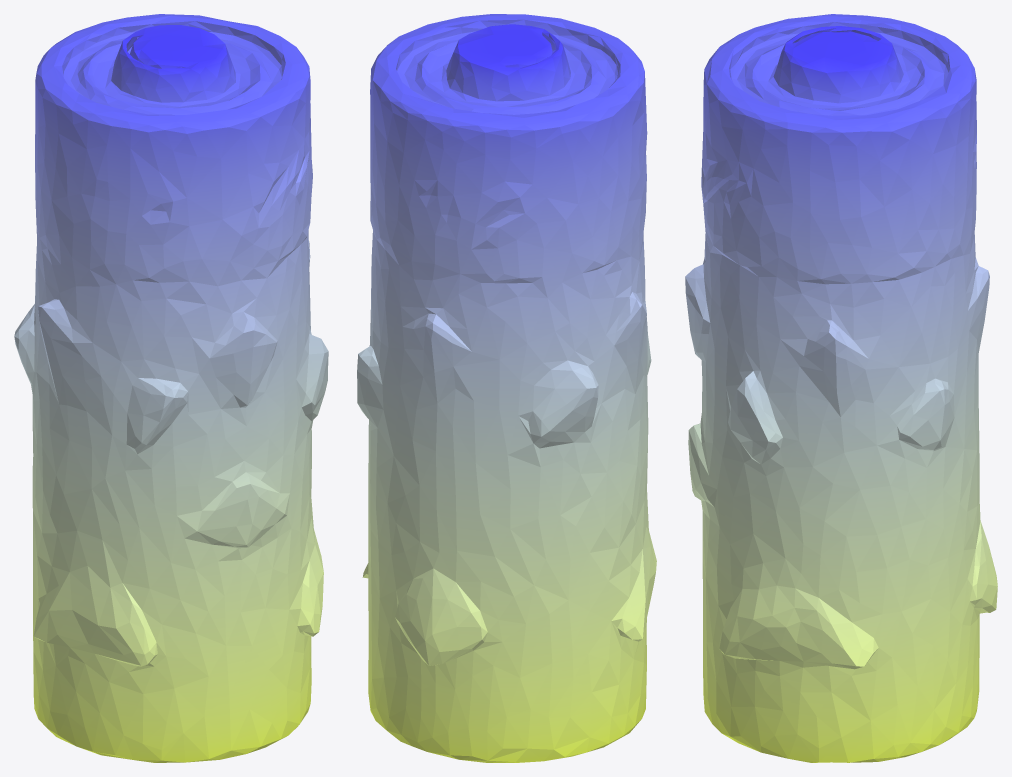
Rendered from 81_cyb_laser_gradient_fish_scales_2895_2026_10_03_d8abe7.glb.
The picture shows the model from 3 angles, left to right: view 1: azimuth 30°, elevation 25°; view 2: azimuth 150°, elevation 25°; view 3: azimuth 270°, elevation 25°; orthographic projection.
Parts seen in each view (by area): view 1: geometry_0; view 2: geometry_0; view 3: geometry_0.
Boxes of the visible parts, x1,y1,x2,y2 form: geometry_0: [14, 14, 328, 762]; geometry_0: [357, 14, 656, 762]; geometry_0: [685, 14, 997, 762].
Size of the model in its own units: 0.4177 by 0.9666 by 0.4144.
